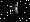person: (10, 2, 18, 16)
